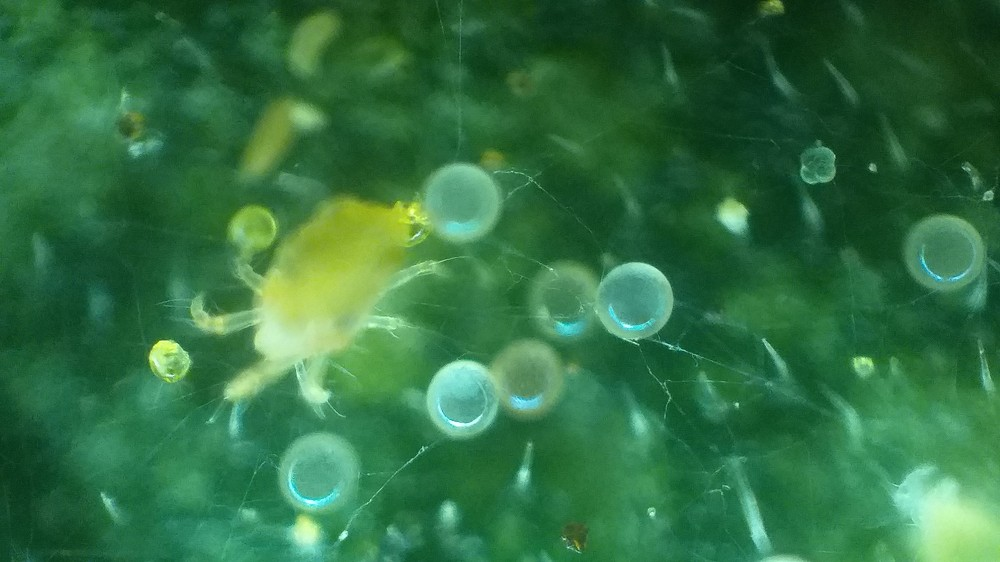Aracnido Rojo: (188, 196, 452, 425)
